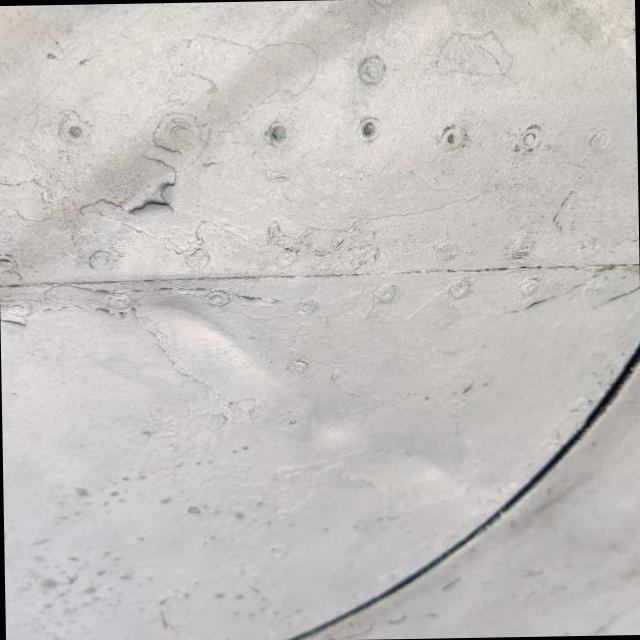Dent: (134, 305, 306, 425), (359, 419, 468, 519)
